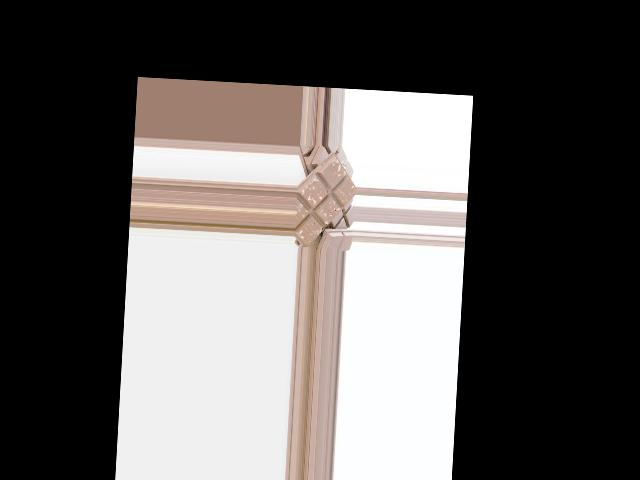chocolate: (293, 156, 356, 248)
